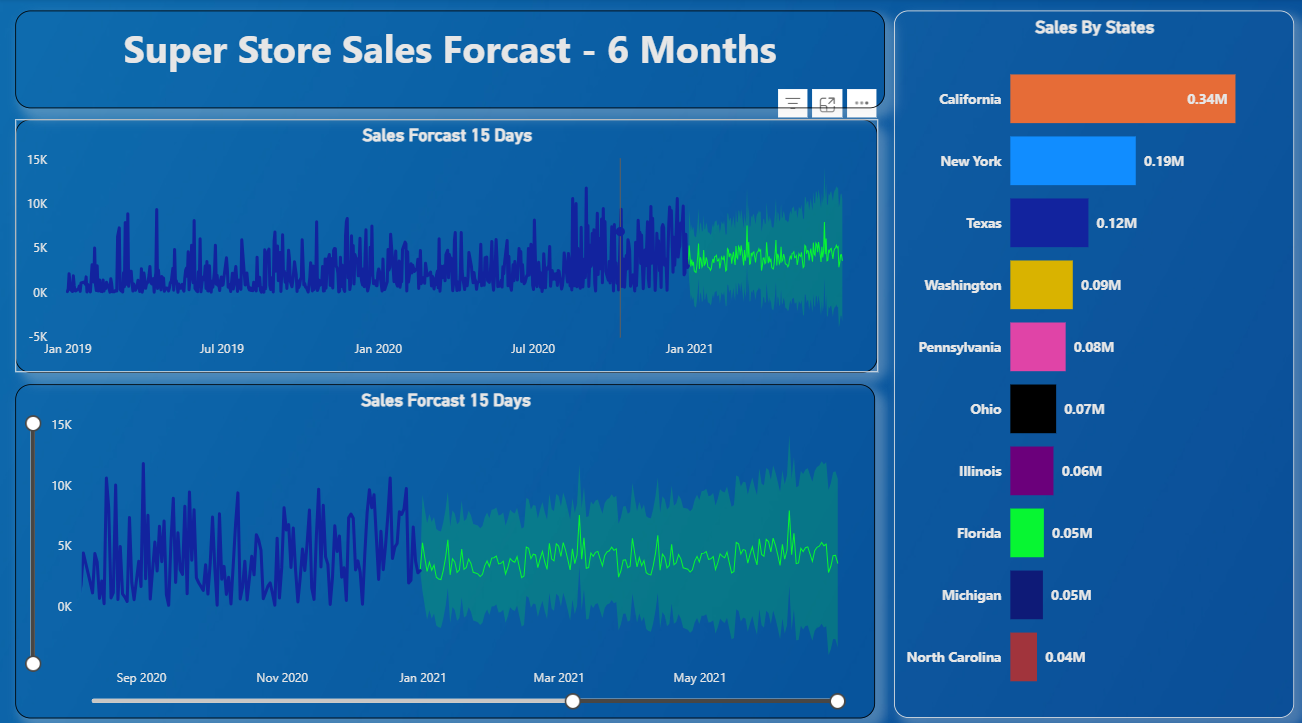

The page's visual inventory and layout, read from the dashboard file:
{"tool":"powerbi","page":{"name":"Page 2","canvas":[1280,720],"ordinal":1},"visuals":[{"type":"lineChart","title":"Sales Forcast 15 Days","fields":{"Y":["Sum(SuperStore_Sales_Dataset.Sales)"],"Category":["SuperStore_Sales_Dataset.Order Date"]},"box":[16,119,846.6,249.1],"z":0},{"type":"lineChart","title":"Sales Forcast 15 Days","fields":{"Y":["Sum(SuperStore_Sales_Dataset.Sales)"],"Category":["SuperStore_Sales_Dataset.Order Date"]},"box":[16,379.1,844.2,327.6],"z":1000},{"type":"clusteredBarChart","title":"Sales By States","fields":{"Category":["SuperStore_Sales_Dataset.State"],"Y":["Sum(SuperStore_Sales_Dataset.Sales)"]},"box":[878.5,12.3,392.6,694.5],"z":2000},{"type":"textbox","box":[16,12.3,854,95.7],"z":3000}]}

Visuals, with their boxes in screenshot pixels (x1, y1, x2, y2), scaled from the page's 1280x720 canvas onto the 1302x723 screenshot:
"Sales Forcast 15 Days" lineChart: {"left": 16, "top": 119, "right": 877, "bottom": 370}
"Sales Forcast 15 Days" lineChart: {"left": 16, "top": 381, "right": 875, "bottom": 710}
"Sales By States" clusteredBarChart: {"left": 894, "top": 12, "right": 1293, "bottom": 710}
textbox: {"left": 16, "top": 12, "right": 885, "bottom": 108}
